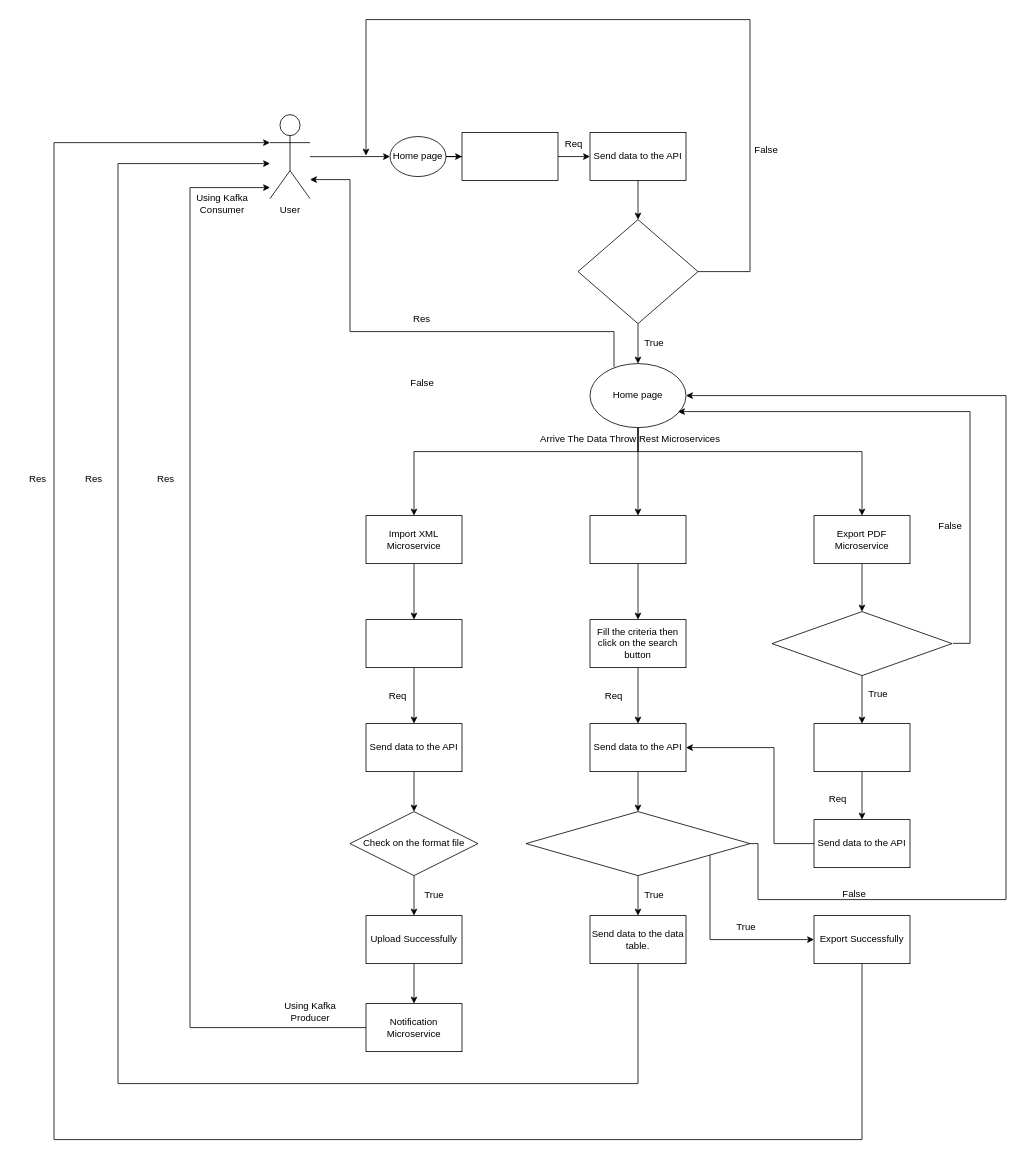
Image size: 1026x1160. Some labels were removed from this diagram. The shapes that lost their labels are listed below. From the top down, each one's box as (x1, y1, x2, y2) in pixels, then its label:
(461, 132, 558, 181): Fill the username and password, and click on the login button
(577, 219, 698, 324): Authentication (Check on the database)
(589, 515, 686, 564): Search Criteria Microservice
(365, 619, 462, 668): Upload file, then click on the upload button
(771, 611, 952, 676): Check on the data table if fill or no
(813, 723, 910, 772): Click on the Export PDF button
(525, 811, 750, 876): Check on the database if the goodguy exist
